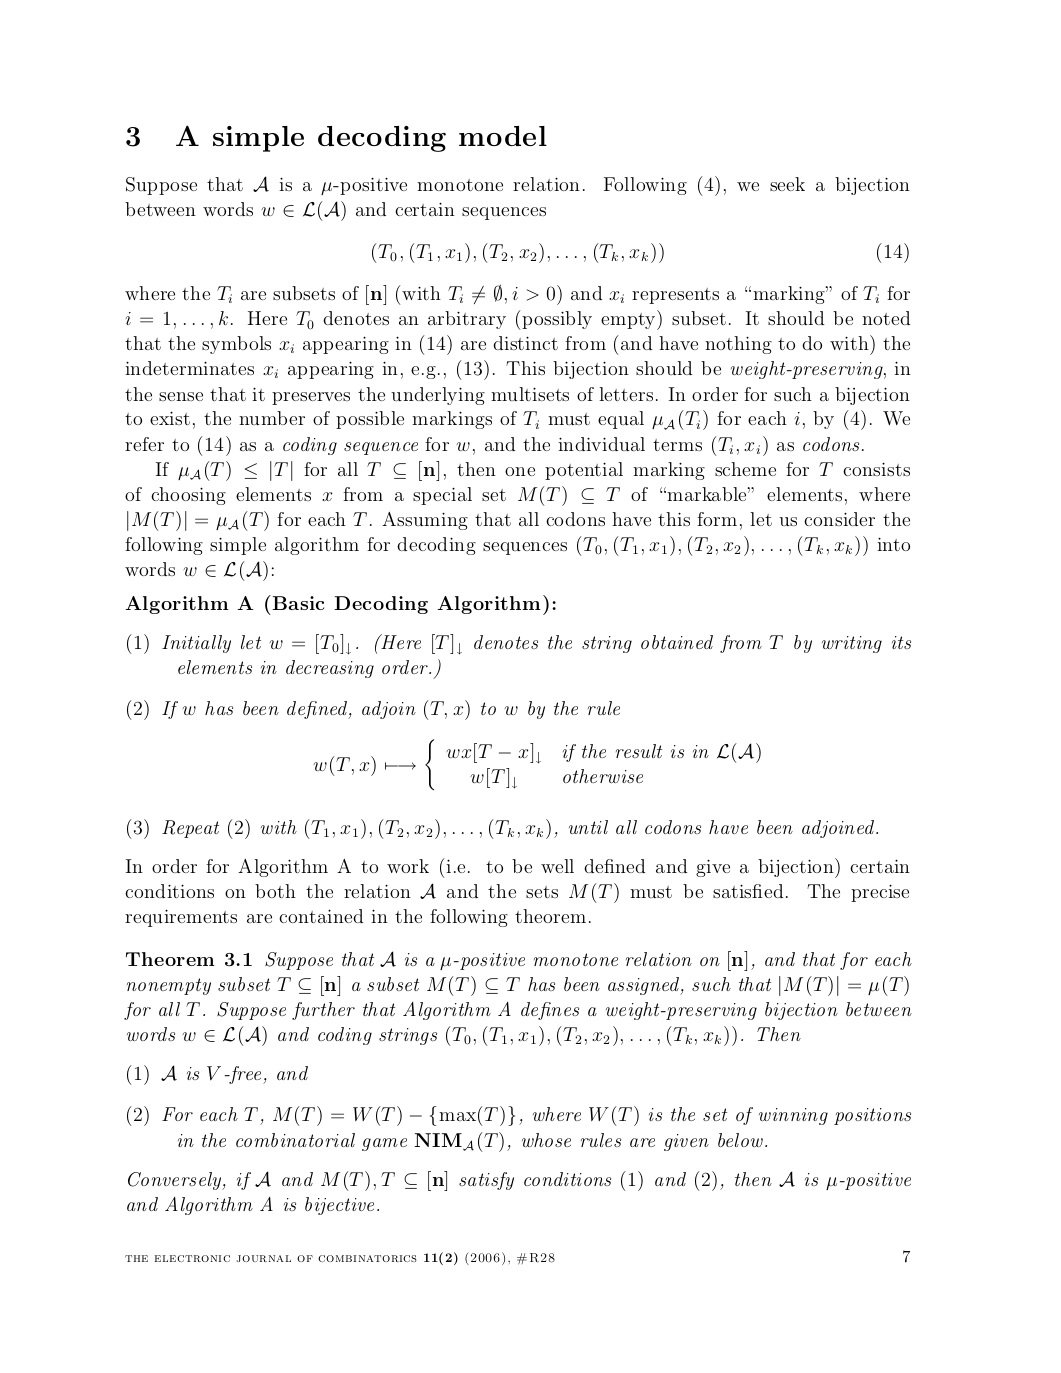formula: (313, 738, 760, 791), (372, 242, 908, 263)
